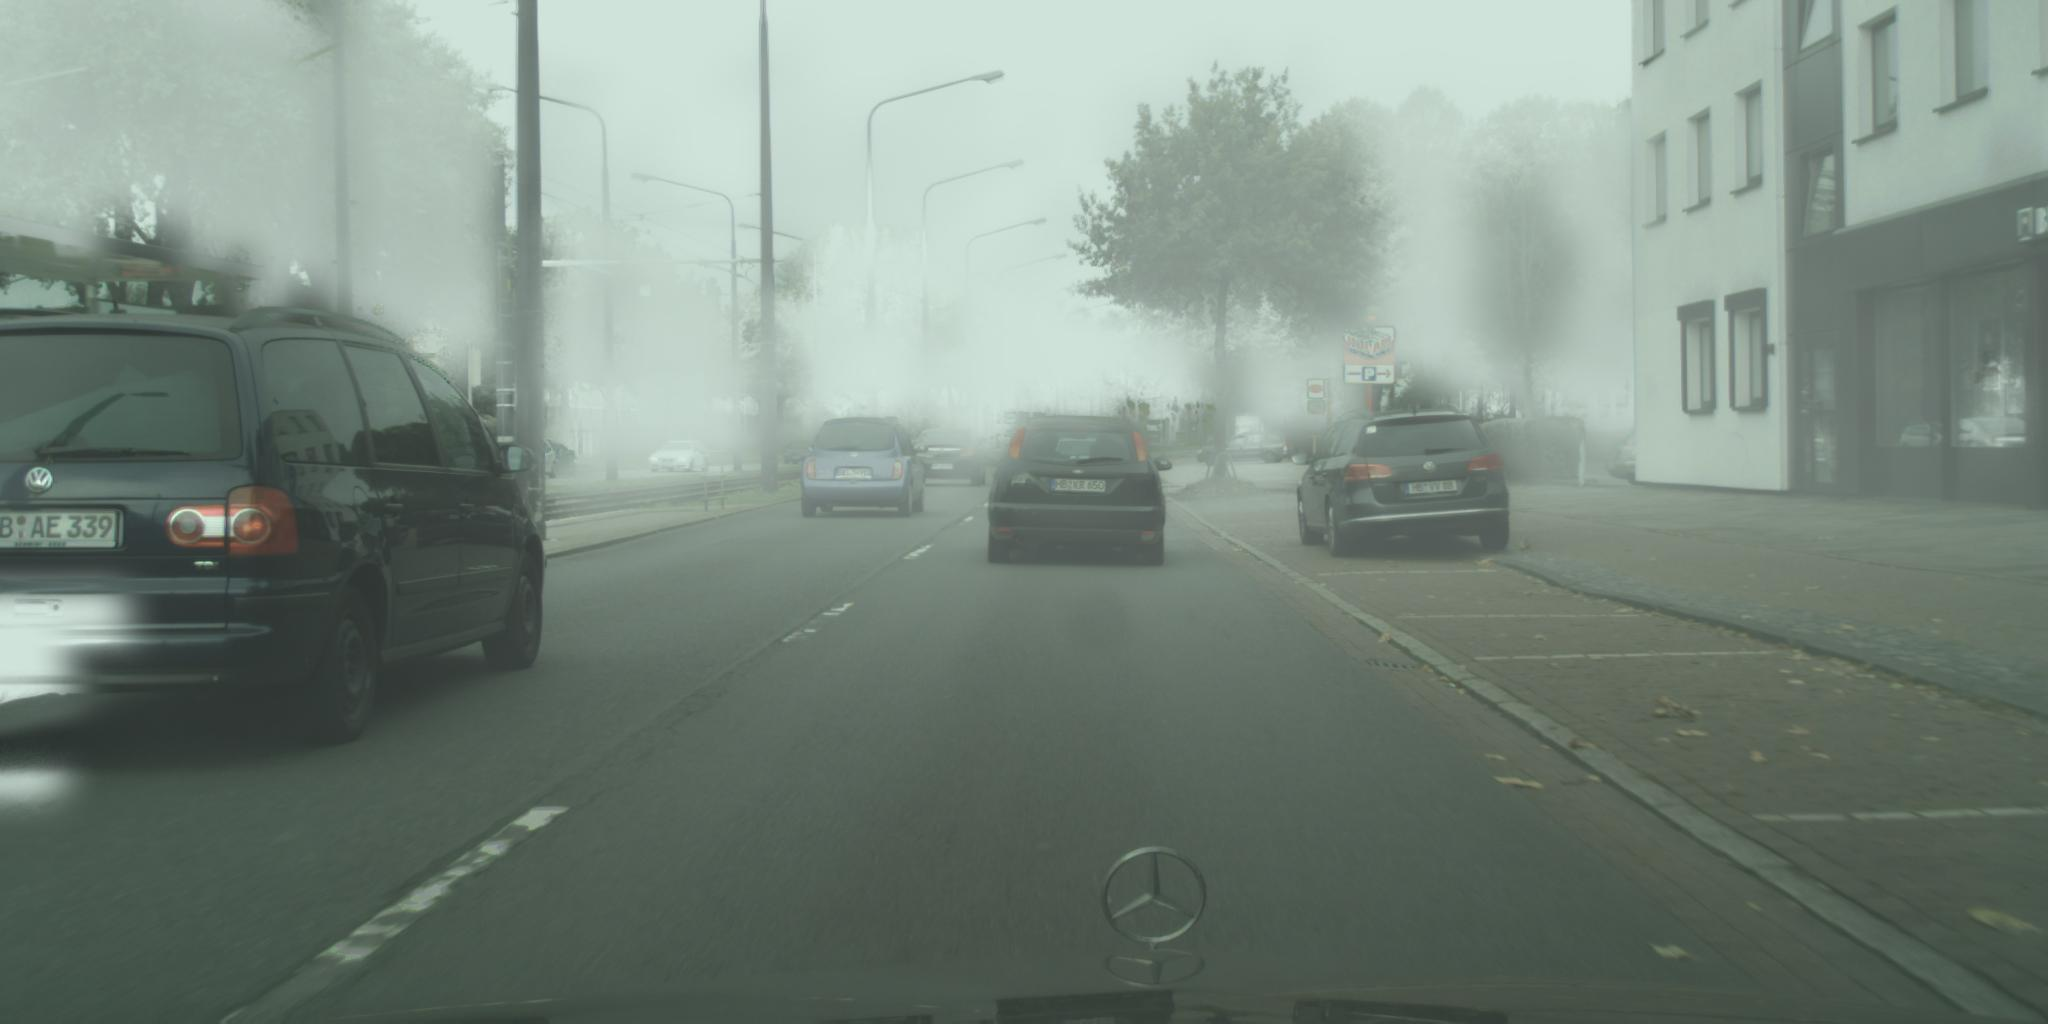car: (1, 307, 547, 746), (1290, 405, 1511, 560), (980, 417, 1176, 568), (801, 418, 931, 520), (1196, 413, 1290, 468), (913, 428, 991, 488), (1607, 424, 1656, 486), (649, 440, 713, 474), (784, 440, 820, 466), (965, 440, 991, 458), (906, 440, 921, 451)
truck: (989, 413, 1048, 452), (1142, 418, 1172, 447)
